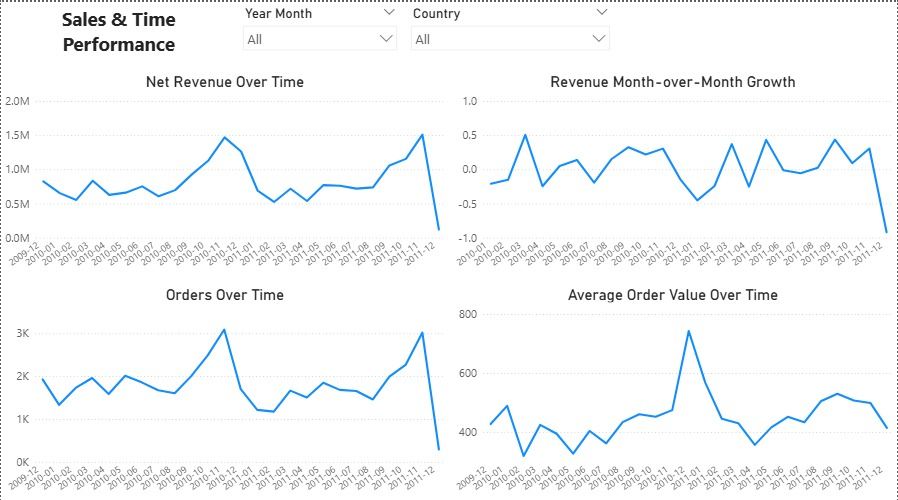

The page's visual inventory and layout, read from the dashboard file:
{"tool":"powerbi","page":{"name":"Sales & Time Performance","canvas":[1280,720],"ordinal":1},"visuals":[{"type":"slicer","fields":{"Values":["DimDate.Year Month"]},"box":[336,0,240,96],"z":0},{"type":"lineChart","title":"Net Revenue Over Time","fields":{"Category":["DimDate.Year Month"],"Y":["FactSales.Net Revenue"]},"box":[0,96,640,304],"z":1000},{"type":"slicer","fields":{"Values":["DimCountry.Country"]},"box":[576,0,304,96],"z":2000},{"type":"textbox","box":[0,0,336,96],"z":3000},{"type":"lineChart","title":"Orders Over Time","fields":{"Category":["DimDate.Year Month"],"Y":["FactSales.Orders Count"]},"box":[0,400,640,320],"z":4000},{"type":"lineChart","title":"Revenue Month-over-Month Growth","fields":{"Category":["DimDate.Year Month"],"Y":["FactSales.Revenue MoM Growth %"]},"box":[640,96,640,304],"z":5000},{"type":"lineChart","title":"Average Order Value Over Time","fields":{"Category":["DimDate.Year Month"],"Y":["FactSales.AOV"]},"box":[640,400,640,320],"z":6000}]}

Visuals, with their boxes in screenshot pixels (x1, y1, x2, y2), scaled from the page's 1280x720 canvas onto the 898x500 screenshot:
slicer - DimDate.Year Month: 236, 0, 404, 67
"Net Revenue Over Time" lineChart: 0, 67, 449, 278
slicer - DimCountry.Country: 404, 0, 617, 67
textbox: 0, 0, 236, 67
"Orders Over Time" lineChart: 0, 278, 449, 499
"Revenue Month-over-Month Growth" lineChart: 449, 67, 897, 278
"Average Order Value Over Time" lineChart: 449, 278, 897, 499
